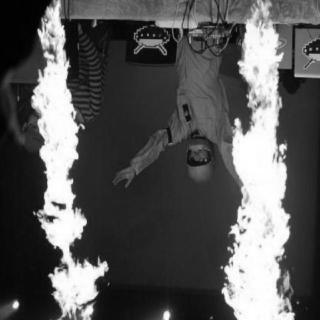Fire: (17, 3, 114, 317), (227, 6, 303, 319)
